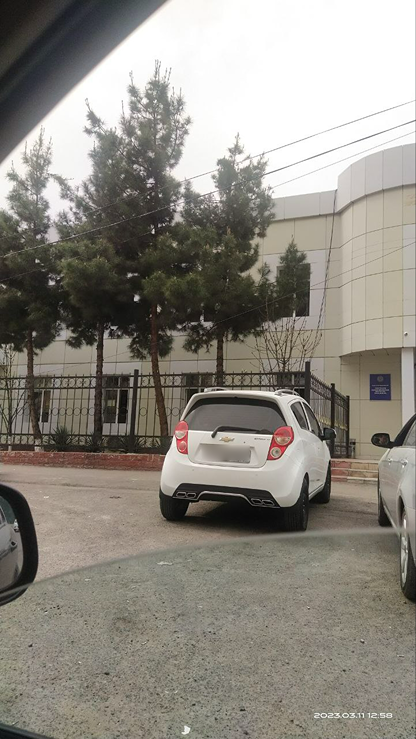car: (157, 370, 331, 524), (368, 394, 416, 563)
tree: (76, 54, 229, 397), (161, 141, 325, 352), (3, 143, 63, 407)
